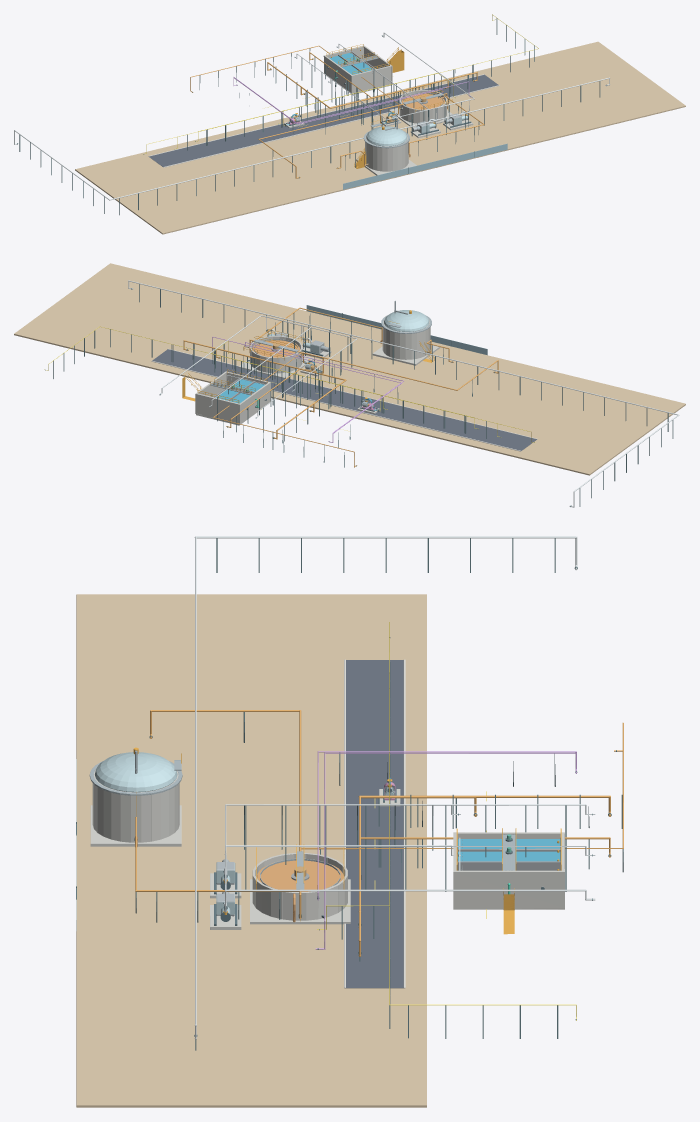
3 views of the same model, one above another, from view 1: azimuth 30°, elevation 25°; view 2: azimuth 150°, elevation 25°; view 3: azimuth 270°, elevation 25° (orthographic). The views are drawn at different scales.
Visible parts, largest first — view 1: render-batch-16, render-batch-15, render-batch-4, render-batch-5, render-batch-20, render-batch-21, render-batch-7, render-batch-22, render-batch-11, render-batch-19, render-batch-9, render-batch-23 (+3 smaller); view 2: render-batch-16, render-batch-15, render-batch-4, render-batch-5, render-batch-20, render-batch-21, render-batch-22, render-batch-11, render-batch-19, render-batch-7, render-batch-9, render-batch-23 (+3 smaller); view 3: render-batch-16, render-batch-4, render-batch-15, render-batch-20, render-batch-5, render-batch-21, render-batch-11, render-batch-18, render-batch-3, render-batch-9, render-batch-13, render-batch-19 (+3 smaller).
Boxes of the visible parts, x1,y1,x2,y2 form: render-batch-16: [75, 41, 685, 234]; render-batch-15: [284, 45, 473, 175]; render-batch-4: [149, 74, 498, 166]; render-batch-5: [17, 18, 607, 215]; render-batch-20: [14, 32, 610, 200]; render-batch-21: [190, 45, 484, 178]; render-batch-7: [343, 143, 507, 189]; render-batch-22: [294, 44, 467, 168]; render-batch-11: [290, 115, 467, 146]; render-batch-19: [148, 74, 499, 167]; render-batch-9: [286, 55, 468, 148]; render-batch-23: [143, 14, 538, 154]; render-batch-16: [14, 263, 685, 475]; render-batch-15: [195, 319, 440, 425]; render-batch-4: [152, 349, 536, 450]; render-batch-5: [45, 284, 673, 506]; render-batch-20: [128, 280, 679, 507]; render-batch-21: [183, 307, 498, 467]; render-batch-22: [182, 310, 434, 406]; render-batch-11: [268, 310, 429, 407]; render-batch-19: [151, 348, 537, 451]; render-batch-7: [306, 305, 487, 355]; render-batch-9: [210, 300, 431, 411]; render-batch-23: [44, 326, 535, 442]; render-batch-16: [76, 594, 426, 1107]; render-batch-4: [345, 660, 404, 988]; render-batch-15: [90, 770, 564, 929]; render-batch-20: [194, 536, 595, 1039]; render-batch-5: [76, 538, 623, 1050]; render-batch-21: [135, 710, 623, 956]; render-batch-11: [95, 752, 393, 914]; render-batch-18: [135, 836, 343, 922]; render-batch-3: [388, 778, 560, 861]; render-batch-9: [89, 750, 542, 889]; render-batch-13: [315, 751, 576, 949]; render-batch-19: [344, 659, 405, 988].
Size of the model in its own units: 169 by 13.2 by 73.47.
